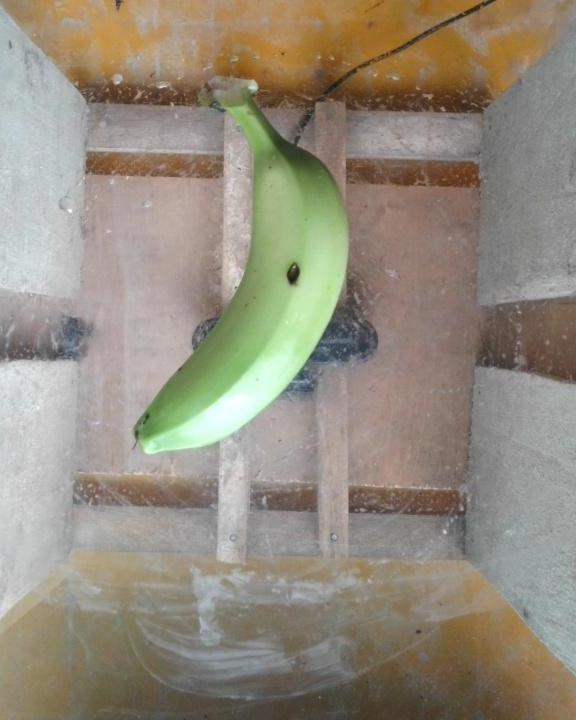CLASS B: (123, 74, 371, 484)
Class A: (273, 251, 310, 293)
